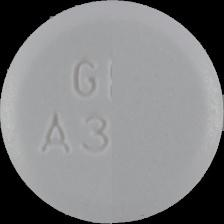0536-3222: (0, 0, 224, 224)
